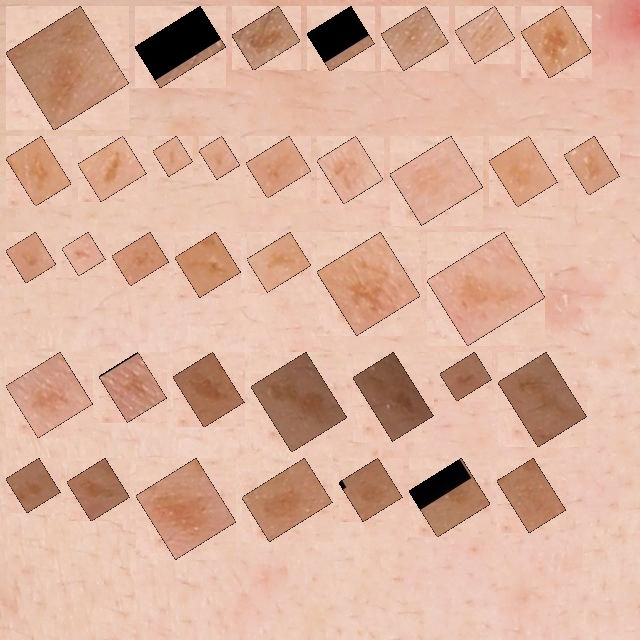melasma: (17, 17, 118, 119), (438, 243, 534, 334), (328, 243, 409, 324), (147, 469, 225, 548), (262, 363, 336, 441), (509, 363, 576, 436), (401, 147, 472, 214), (17, 363, 82, 427), (253, 469, 321, 530), (146, 17, 215, 76), (364, 363, 422, 430), (420, 469, 479, 526), (184, 363, 233, 416), (508, 469, 555, 521), (532, 17, 580, 67), (500, 147, 546, 196), (110, 363, 156, 411), (17, 147, 60, 195), (328, 147, 372, 193), (392, 17, 438, 60), (89, 147, 135, 190), (318, 17, 363, 60), (243, 17, 289, 59), (186, 243, 230, 286), (257, 147, 300, 187), (78, 469, 119, 510), (350, 469, 391, 510), (258, 243, 300, 281), (466, 17, 504, 52), (575, 147, 608, 184), (123, 243, 158, 275), (17, 469, 49, 502), (17, 243, 45, 272), (451, 363, 481, 390), (73, 243, 94, 265), (210, 147, 229, 168), (164, 147, 182, 165)
